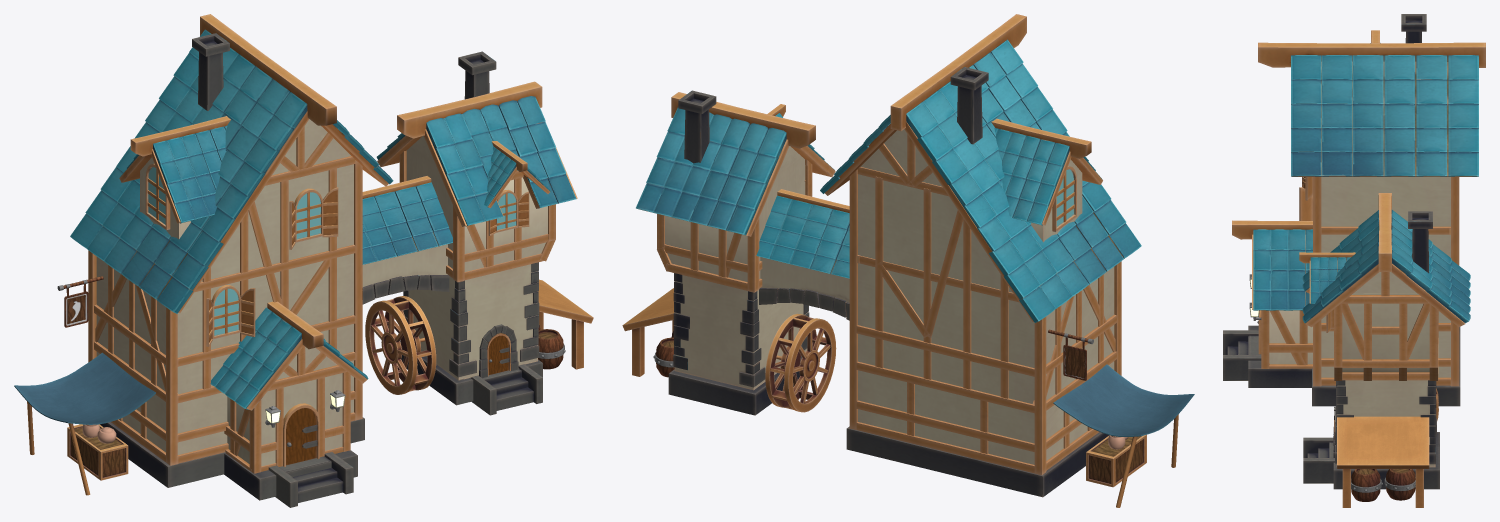
File: stylized_house.glb
3 renders of one model, left to right at view 1: azimuth 30°, elevation 25°; view 2: azimuth 150°, elevation 25°; view 3: azimuth 270°, elevation 25°, orthographic. The views are drawn at different scales.
Visible parts, largest first — view 1: Roof_long1, LargeHouse_body1, Roof_notched1, BrickBase1, Roof2, Roof3, Tarp_roof1, Roof4, Water_Mill1, Tower_top1, House_body2, Bridge_body1 (+40 smaller); view 2: LargeHouse_body1, Roof_long1, Roof_notched1, BrickBase1, Roof2, Tarp_roof1, Roof4, Foundation1, Water_Mill1, Tower_top1, Bridge_body1, Foundation3 (+24 smaller); view 3: Roof_long1, Roof_notched1, LargeHouse_body1, Side_Roof1, Roof3, Tower_top1, BrickBase1, Stairs1, Foundation2, Roof5, Stairs2, Wood58 (+23 smaller).
Part boxes in pixels (x1,y1,x2,y2): Roof_long1: (70,14,393,313); LargeHouse_body1: (96,119,353,454); Roof_notched1: (376,81,577,226); BrickBase1: (403,262,539,380); Roof2: (119,116,230,223); Roof3: (210,301,368,410); Tarp_roof1: (14,352,155,495); Roof4: (362,176,452,264); Water_Mill1: (365,296,436,394); Tower_top1: (406,136,547,271); House_body2: (227,347,342,466); Bridge_body1: (362,244,449,304); LargeHouse_body1: (858,129,1114,464); Roof_long1: (820,14,1141,322); Roof_notched1: (636,92,835,236); BrickBase1: (673,273,809,390); Roof2: (991,118,1102,225); Tarp_roof1: (1053,364,1194,507); Roof4: (756,189,849,278); Foundation1: (846,426,1108,497); Water_Mill1: (765,313,836,412); Tower_top1: (665,146,805,281); Bridge_body1: (759,257,849,320); Foundation3: (668,356,801,415); Roof_long1: (1258,42,1485,176); Roof_notched1: (1302,193,1470,327); LargeHouse_body1: (1321,177,1450,377); Side_Roof1: (1337,416,1429,507); Roof3: (1232,220,1312,310); Tower_top1: (1342,272,1429,372); BrickBase1: (1335,380,1436,467); Stairs1: (1223,330,1261,380); Foundation2: (1248,325,1311,387); Roof5: (1299,252,1355,303); Stairs2: (1303,437,1334,483); Wood58: (1451,177,1459,386).
Bounding box in the file's own units: 2.5 × 1.75 × 1.2.
2 materials, 2 textured.
